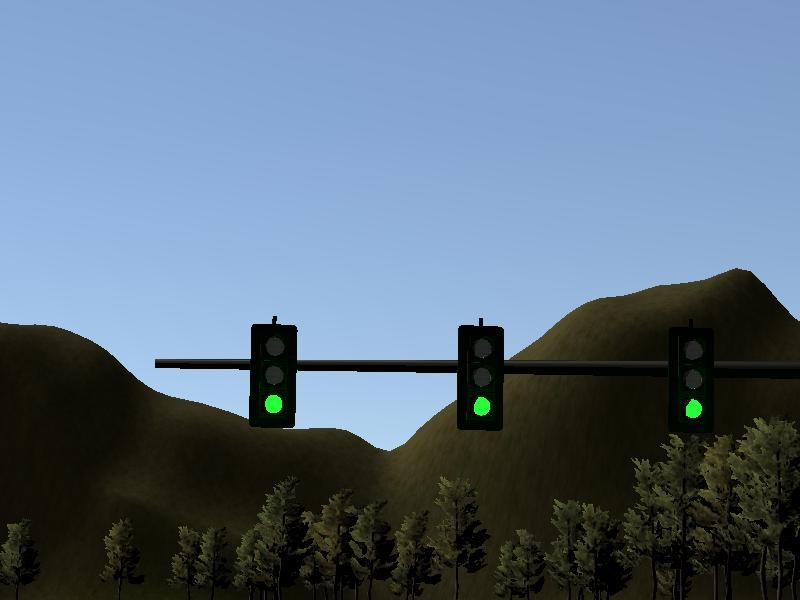green: (244, 315, 301, 433), (455, 319, 510, 436), (658, 329, 714, 435)
